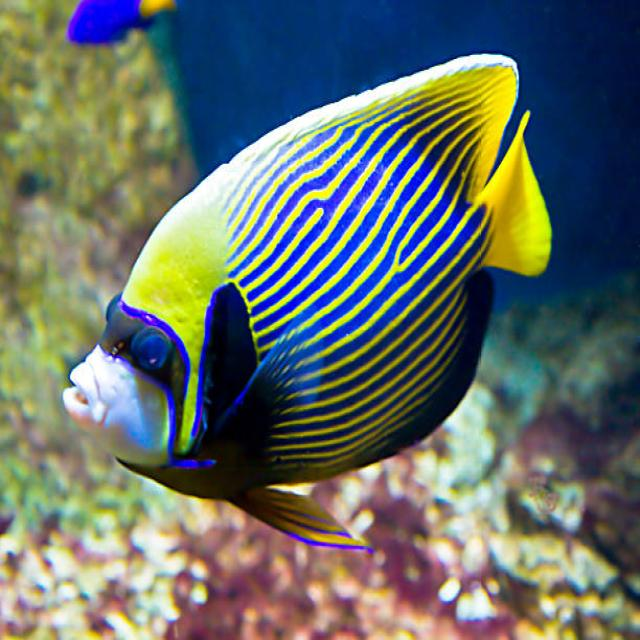AngelFish: (64, 48, 554, 552)
